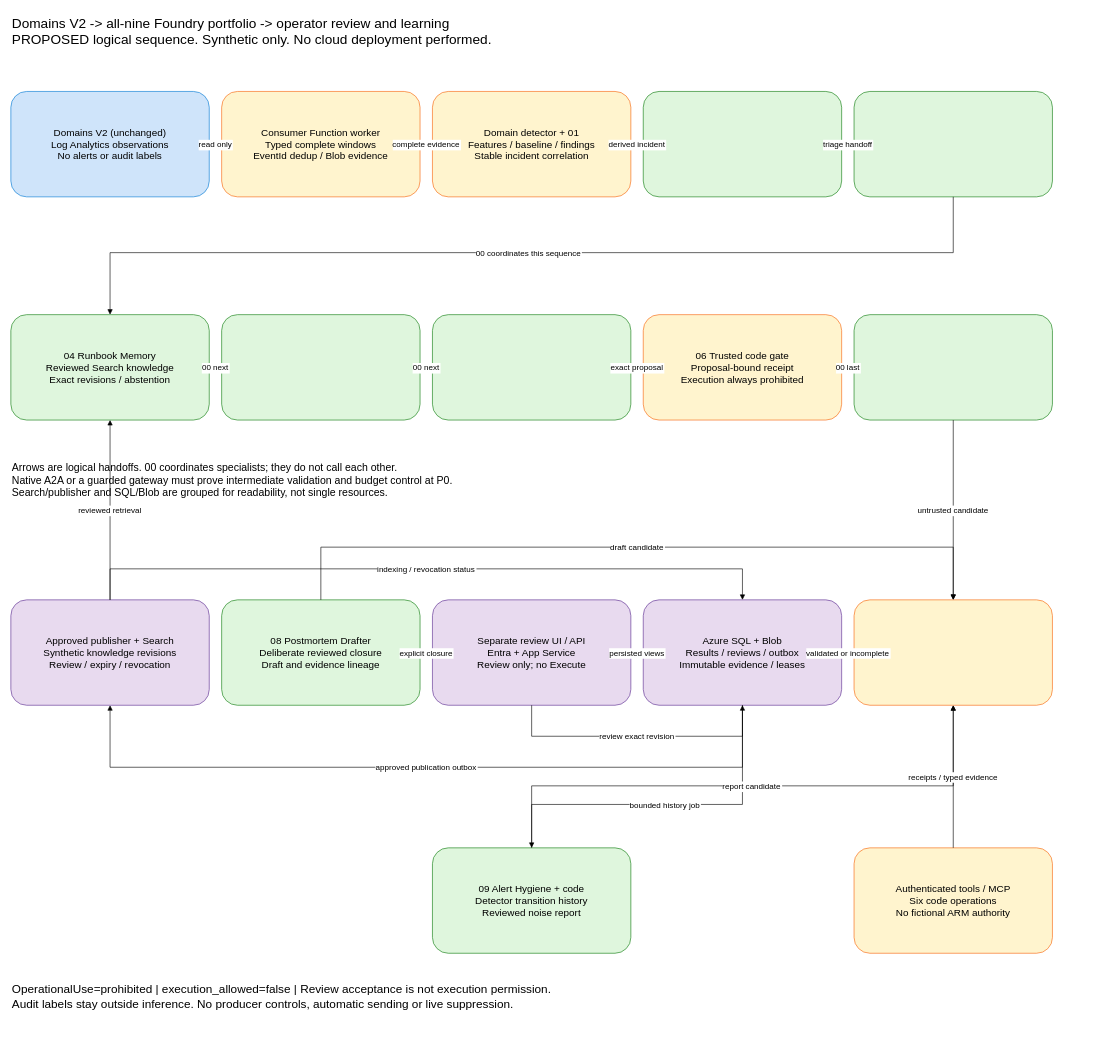
Image size: 1107x1050. Some labels were removed from this diagram. Here are the shapes that lost their labels. From the top down, the box of each, then its label:
(643, 91, 842, 197): 10 Industry + 02 Triage Criticality and prohibitions Context, not physical truth
(853, 91, 1052, 197): 00 Ops Orchestrator Actual Foundry prompt agent Four specialist A2A bindings
(221, 314, 420, 420): 03 RCA Investigator Evidence and contradictions Hypotheses, not certainty
(432, 314, 631, 420): 05 Remediation Planner Exact target / component Proposal, not execution
(853, 314, 1052, 420): 07 Incident Comms After verified gate result Audience drafts; never send
(853, 599, 1052, 705): Trusted result processor Schemas / citations / scope Atomic result + next work
